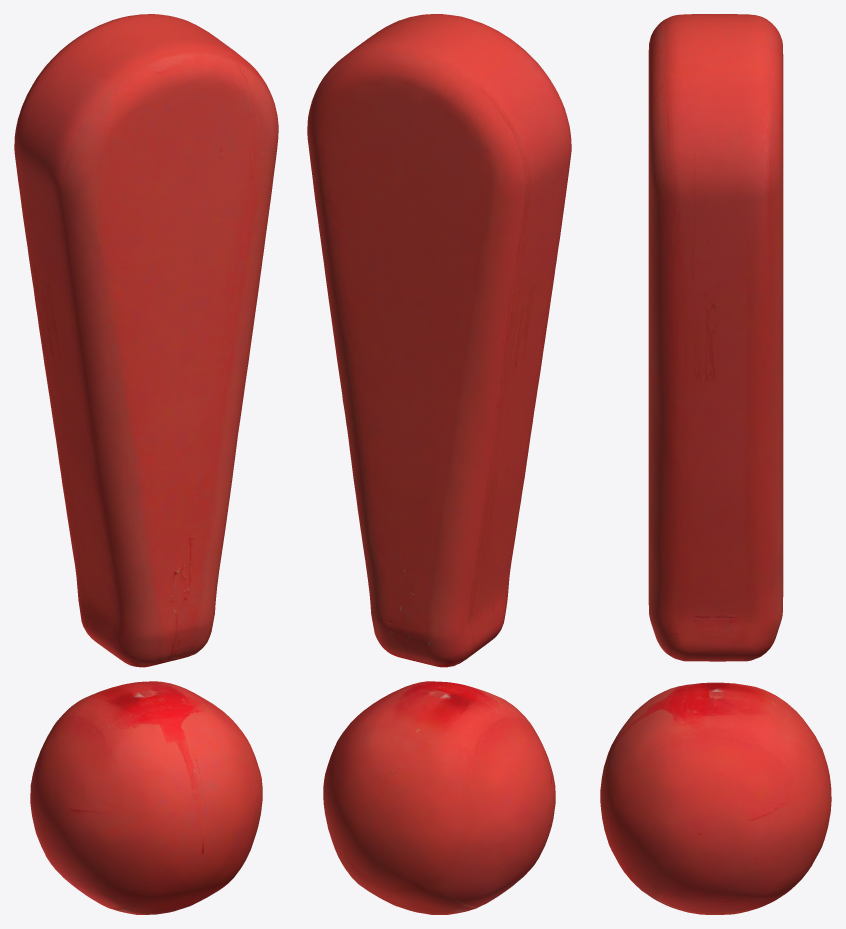
File: A_high_quality_3D_mod_0927205159_texture.fbx
3 renders of one model, left to right at view 1: azimuth 30°, elevation 25°; view 2: azimuth 150°, elevation 25°; view 3: azimuth 270°, elevation 25°, orthographic.
Visible parts, largest first — view 1: Mesh_0.002; view 2: Mesh_0.002; view 3: Mesh_0.002.
Part boxes in pixels (x1=…): Mesh_0.002: x1=14, y1=14, x2=278, y2=914; Mesh_0.002: x1=307, y1=14, x2=571, y2=914; Mesh_0.002: x1=600, y1=14, x2=831, y2=914.
Size of the model in its own units: 51.23 by 191 by 45.69.
Materials: 1 (1 with a texture image).
